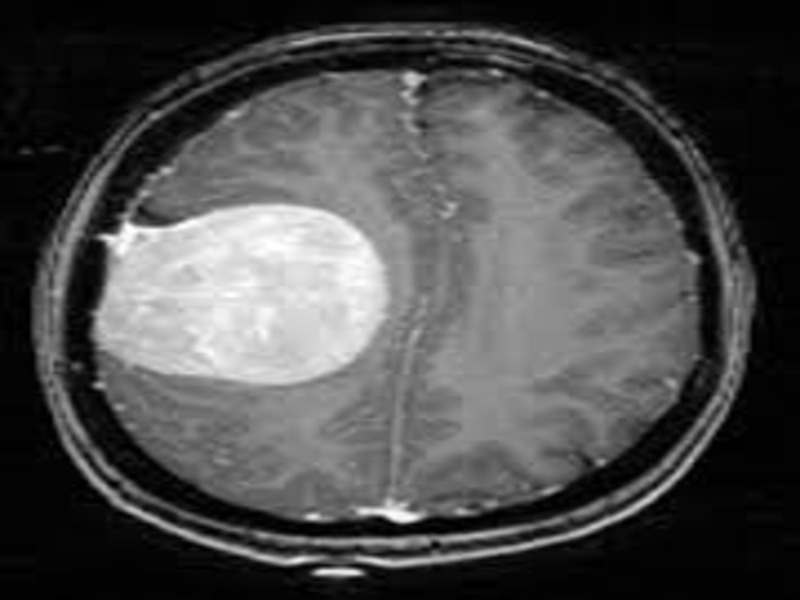tumor: (94, 200, 416, 394)
